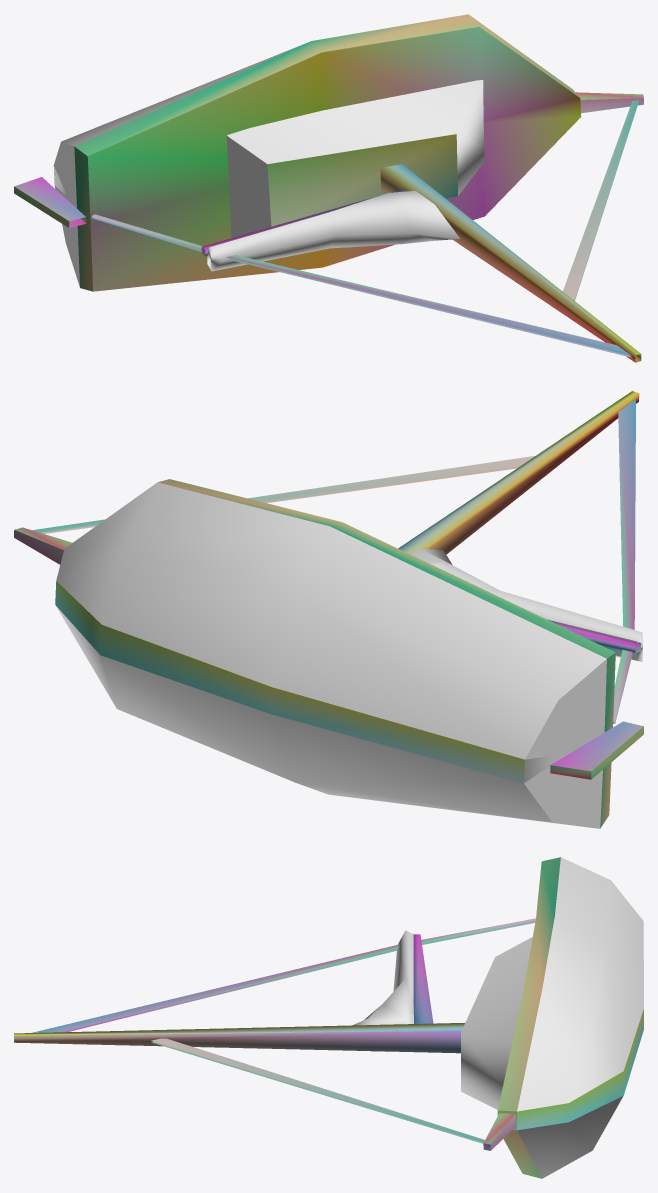
Rendered from Boat_Village_SailingDocked_ref.glb.
The picture shows the model from 3 angles, top to bottom: view 1: azimuth 30°, elevation 25°; view 2: azimuth 150°, elevation 25°; view 3: azimuth 270°, elevation 25°; orthographic projection. The views are drawn at different scales.
Parts seen in each view (by area): view 1: MeshNode_0, MeshNode_1; view 2: MeshNode_1, MeshNode_0; view 3: MeshNode_1, MeshNode_0.
Boxes of the visible parts, box(x1,y1,x2,y2) form: MeshNode_0: box(14, 14, 643, 362); MeshNode_1: box(53, 42, 484, 286); MeshNode_1: box(55, 482, 642, 828); MeshNode_0: box(14, 391, 643, 828); MeshNode_1: box(353, 857, 643, 1178); MeshNode_0: box(14, 857, 643, 1178).
Bounding box in the file's own units: 36.35 × 13.99 × 38.4.
